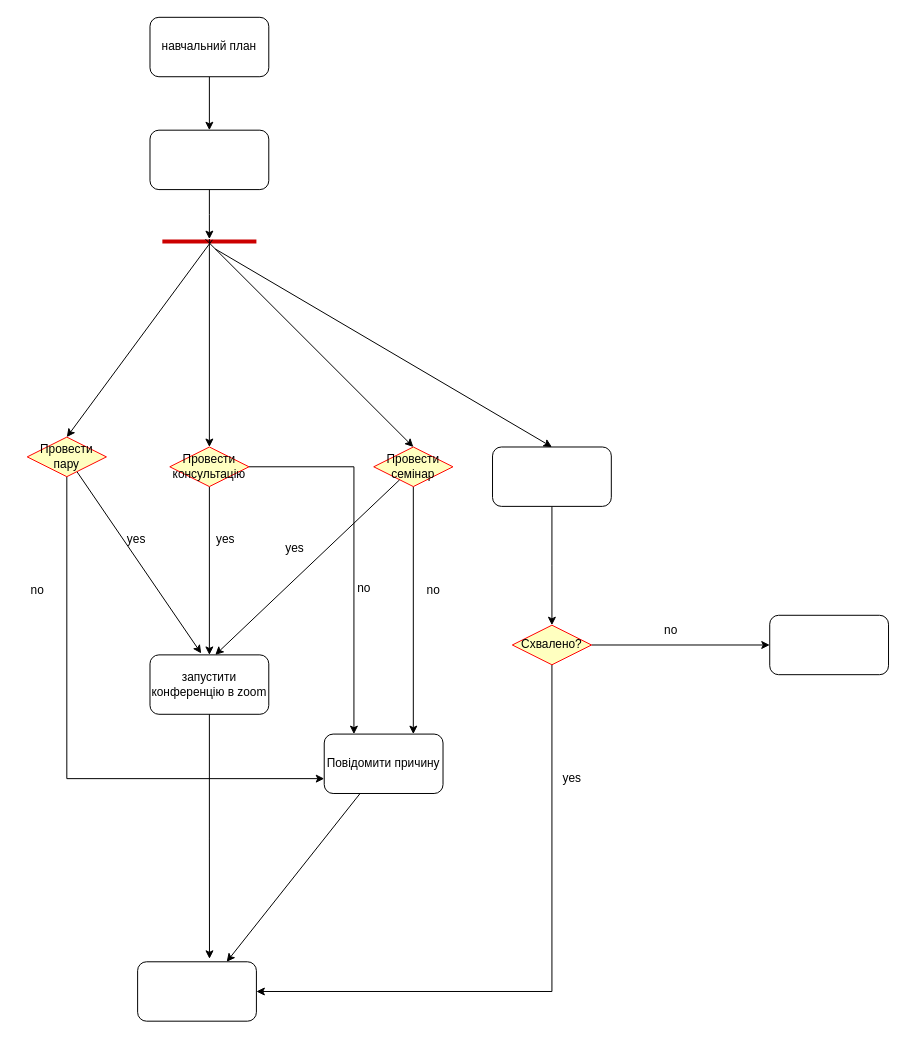
Some shapes in this 906 by 1039 pixel diagram are drawn without their labels. The shapes that lost their labels are listed below. From the top down, each one's centre as x and y in pixels, then its label:
(x=209, y=159): Вчитель
(x=551, y=476): Перевірити курсову
(x=829, y=644): Повернути роботу студенту
(x=196, y=991): заповнити журнал
